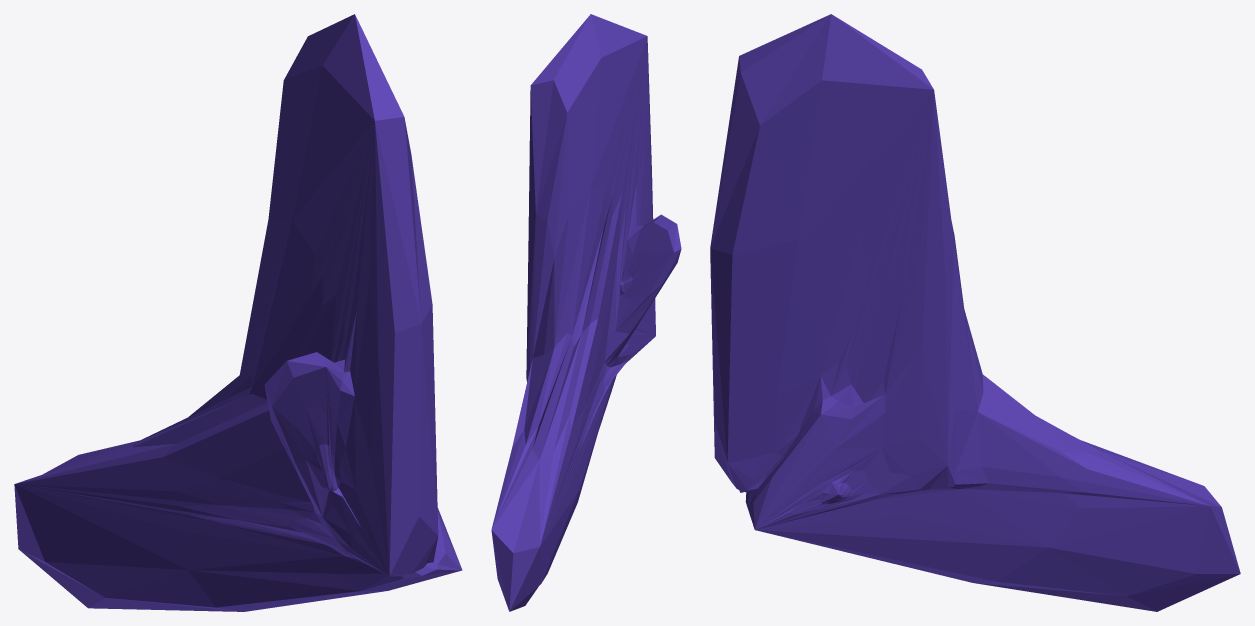
3 views of the same model, side by side, from view 1: azimuth 30°, elevation 25°; view 2: azimuth 150°, elevation 25°; view 3: azimuth 270°, elevation 25° (orthographic). The views are drawn at different scales.
Visible parts, largest first — view 1: 032_Cube.137; view 2: 032_Cube.137; view 3: 032_Cube.137.
Boxes of the visible parts, left/top/right/bottom form: 032_Cube.137: left=14, top=14, right=462, bottom=611; 032_Cube.137: left=491, top=14, right=681, bottom=611; 032_Cube.137: left=710, top=14, right=1240, bottom=611.
Bounding box in the file's own units: 4.68 × 15.89 × 12.02.
